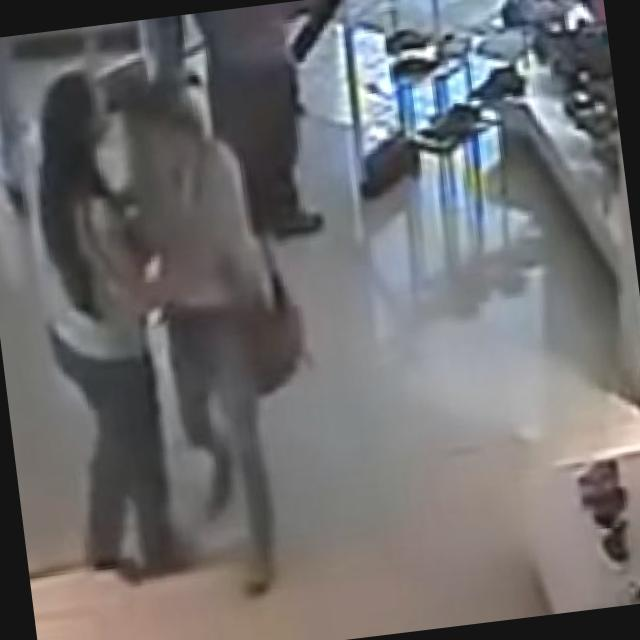Person: (128, 58, 302, 620), (8, 67, 184, 608)
